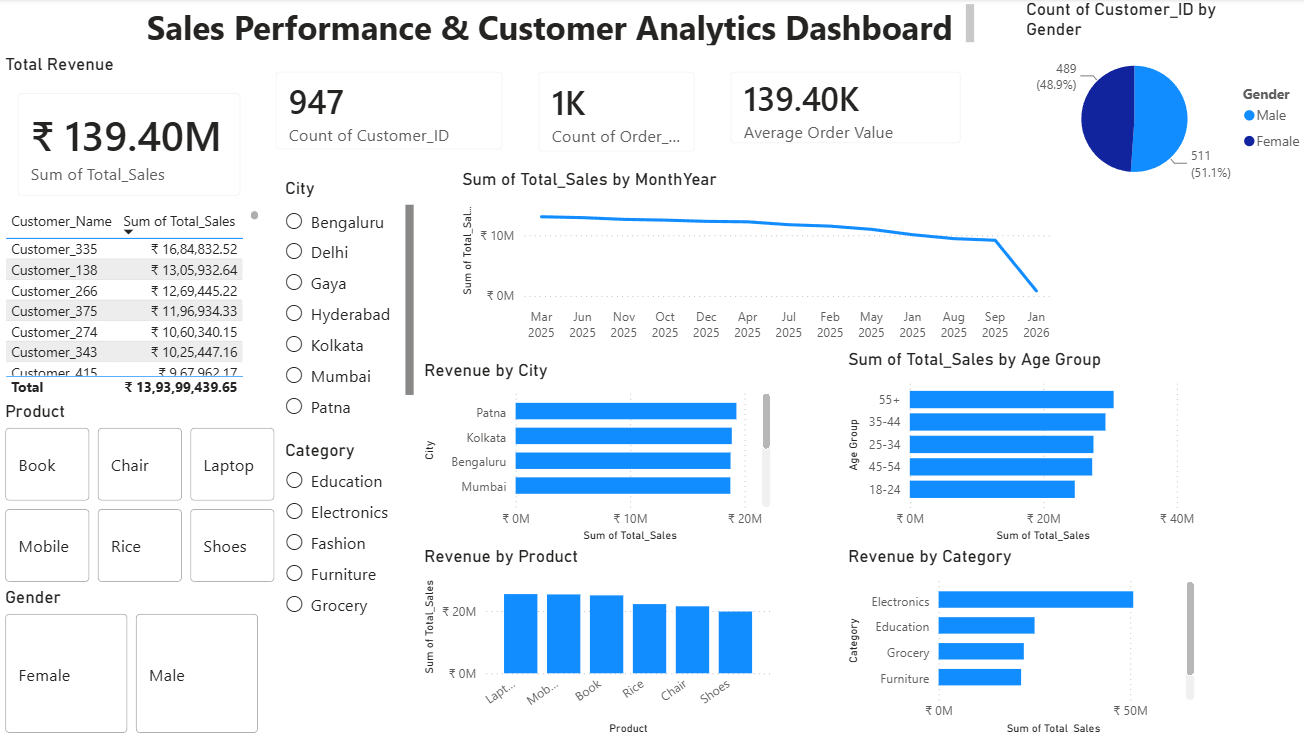

This screenshot's page, from the dashboard's own definition file:
{"tool":"powerbi","page":{"name":"Page 1","canvas":[1280,720],"ordinal":0},"visuals":[{"type":"clusteredBarChart","title":"Revenue by Category","fields":{"Category":["sales_data.Category"],"Y":["Sum(sales_data.Total_Sales)"]},"box":[820,532.2,346.7,187.8],"z":0},{"type":"clusteredColumnChart","title":"Revenue by Product","fields":{"Category":["sales_data.Product"],"Y":["Sum(sales_data.Total_Sales)"]},"box":[407.8,532.2,346.7,187.8],"z":1},{"type":"cardVisual","title":"Total Revenue","fields":{"Data":["Sum(sales_data.Total_Sales)"]},"box":[0,53.3,251.1,155.6],"z":3},{"type":"cardVisual","fields":{"Data":["CountNonNull(sales_data.Order_ID)"]},"box":[506.7,53.3,186.7,112.2],"z":4},{"type":"lineChart","fields":{"Y":["Sum(sales_data.Total_Sales)"],"Category":["sales_data.MonthYear"]},"box":[444.4,165.6,586.7,174.4],"z":5},{"type":"barChart","title":"Revenue by City","fields":{"Category":["sales_data.City"],"Y":["Sum(sales_data.Total_Sales)"]},"box":[407.8,351.1,346.7,181.1],"z":6},{"type":"barChart","fields":{"Category":["sales_data.Age Group"],"Y":["Sum(sales_data.Total_Sales)"]},"box":[820,340,346.7,192.2],"z":7},{"type":"pieChart","fields":{"Category":["sales_data.Gender"],"Y":["CountNonNull(sales_data.Customer_ID)"]},"box":[993.3,0,286.7,191.1],"z":8},{"type":"tableEx","fields":{"Values":["sales_data.Customer_Name","Sum(sales_data.Total_Sales)"]},"box":[0,200,256.7,191.1],"z":9},{"type":"advancedSlicerVisual","fields":{"Values":["sales_data.Gender"]},"box":[0,572.2,256.7,147.8],"z":10},{"type":"listSlicer","fields":{"Values":["sales_data.City"]},"box":[272.2,174.4,135.6,242.2],"z":11},{"type":"listSlicer","fields":{"Values":["sales_data.Category"]},"box":[272.2,428.9,135.6,234.4],"z":12},{"type":"advancedSlicerVisual","fields":{"Values":["sales_data.Product"]},"box":[0,391.1,272.2,181.1],"z":13},{"type":"cardVisual","fields":{"Data":["Count(sales_data.Customer_ID)"]},"box":[251.1,53.3,255.6,110],"z":14},{"type":"cardVisual","fields":{"Data":["sales_data.Average Order Value"]},"box":[693.3,53.3,258.9,104.4],"z":15},{"type":"textbox","box":[125.6,0,826.7,50],"z":16}]}

Visuals, with their boxes in screenshot pixels (x1, y1, x2, y2), scaled from the page's 1280x720 canvas onto the 1304x733 screenshot:
"Revenue by Category" clusteredBarChart: (835,542,1189,732)
"Revenue by Product" clusteredColumnChart: (415,542,769,732)
"Total Revenue" cardVisual: (0,54,256,213)
cardVisual - CountNonNull(sales_data.Order_ID): (516,54,706,168)
lineChart - Sum(sales_data.Total_Sales) x sales_data.MonthYear: (453,169,1050,346)
"Revenue by City" barChart: (415,357,769,542)
barChart - sales_data.Age Group x Sum(sales_data.Total_Sales): (835,346,1189,542)
pieChart - sales_data.Gender x CountNonNull(sales_data.Customer_ID): (1012,0,1303,195)
tableEx - sales_data.Customer_Name x Sum(sales_data.Total_Sales): (0,204,262,398)
advancedSlicerVisual - sales_data.Gender: (0,583,262,732)
listSlicer - sales_data.City: (277,178,415,424)
listSlicer - sales_data.Category: (277,437,415,675)
advancedSlicerVisual - sales_data.Product: (0,398,277,583)
cardVisual - Count(sales_data.Customer_ID): (256,54,516,166)
cardVisual - sales_data.Average Order Value: (706,54,970,161)
textbox: (128,0,970,51)
